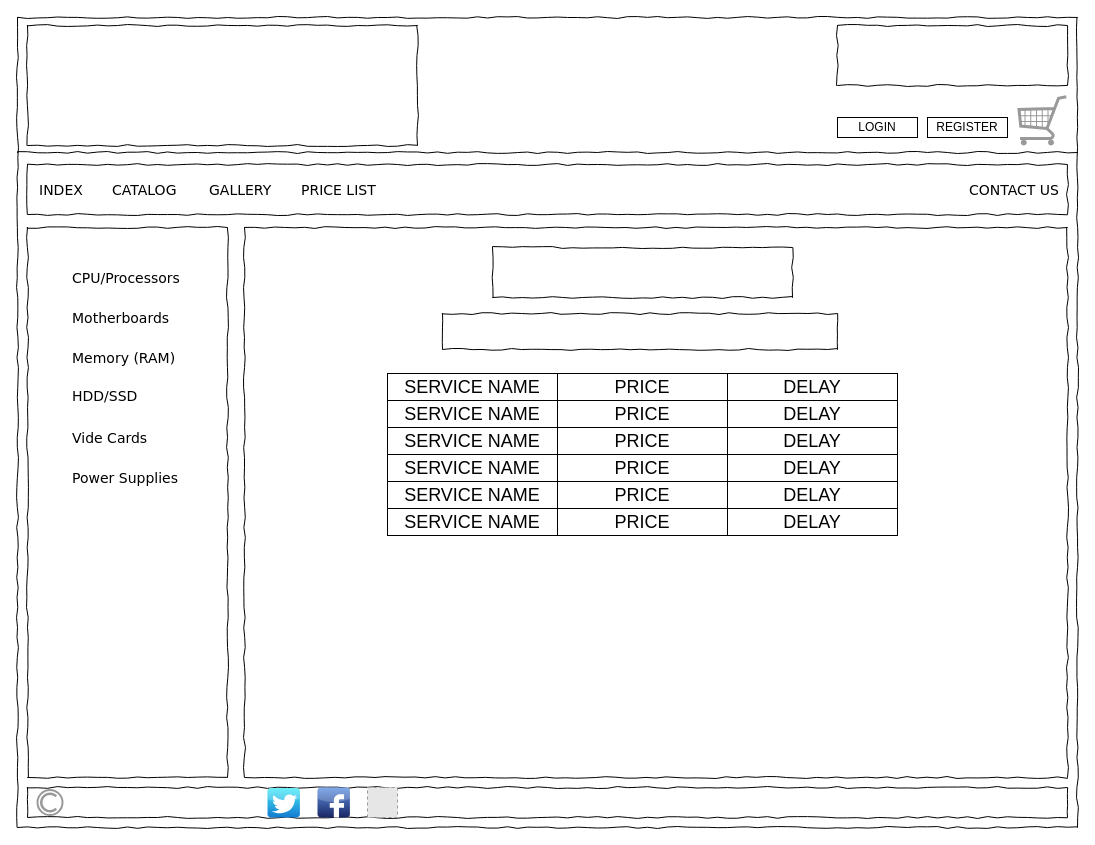
This 1095x845 diagram has some shape labels left out. Grey dashed boxes stand in for pictures. The shapes that lost their labels are listed below. From the top down, each one's centre as x and y in pixels, then its label:
At (x=952, y=55): "Contact".
At (x=222, y=85): "LOGO".
At (x=642, y=272): "SERVICES LIST".
At (x=640, y=331): "Description (Services that we offer)".
